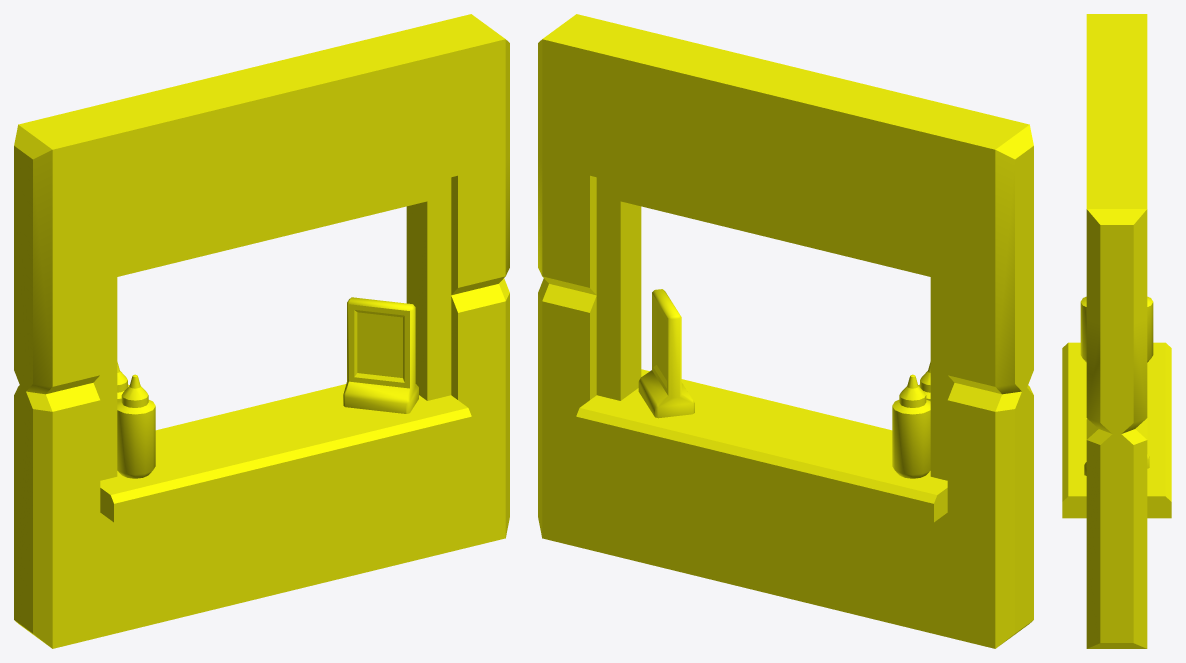
The model's file is kaykit-wall-orderwindow-decorated.glb.
The picture shows the model from 3 angles, left to right: view 1: azimuth 30°, elevation 25°; view 2: azimuth 150°, elevation 25°; view 3: azimuth 270°, elevation 25°; orthographic projection. The views are drawn at different scales.
Visible parts, largest first — view 1: wall_orderwindow_decorated; view 2: wall_orderwindow_decorated; view 3: wall_orderwindow_decorated.
Part boxes in pixels (x1,y1,x2,y2): wall_orderwindow_decorated: [14, 14, 509, 648]; wall_orderwindow_decorated: [538, 14, 1033, 648]; wall_orderwindow_decorated: [1062, 14, 1171, 648].
Size of the model in its own units: 4 by 4 by 0.8999.
